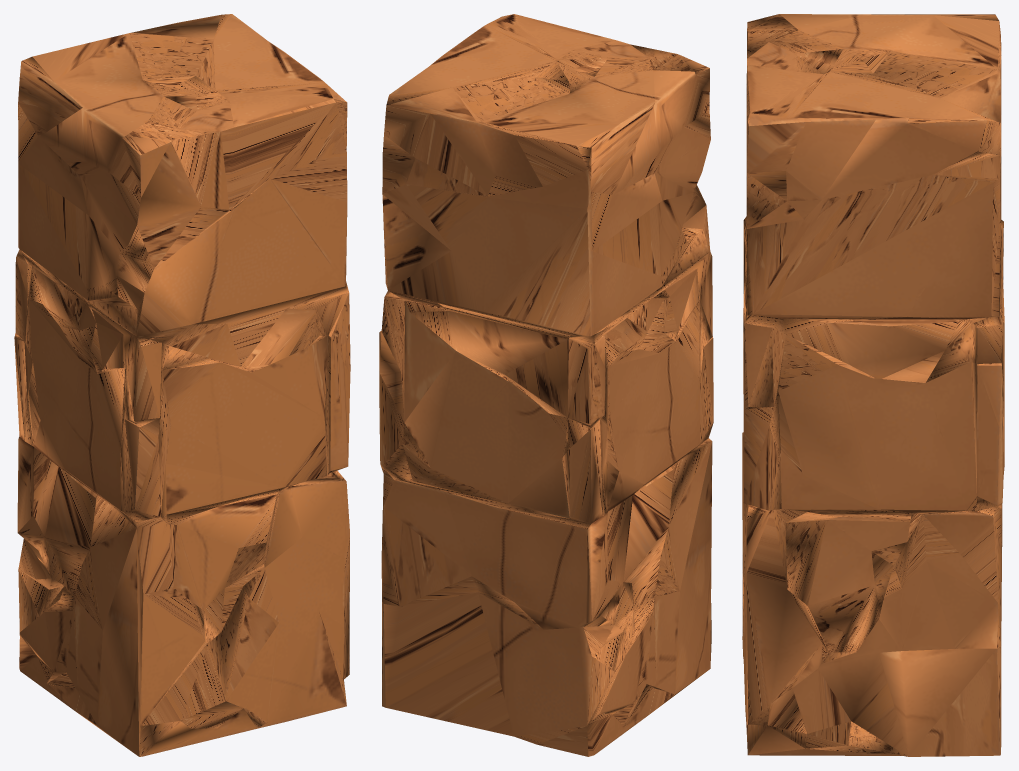
File: cover_full_ruins_v1_lod1.glb
3 renders of one model, left to right at view 1: azimuth 30°, elevation 25°; view 2: azimuth 150°, elevation 25°; view 3: azimuth 270°, elevation 25°, orthographic. The views are drawn at different scales.
Size of the model in its own units: 0.6919 by 1.85 by 0.6912.
1 material, 1 textured.
